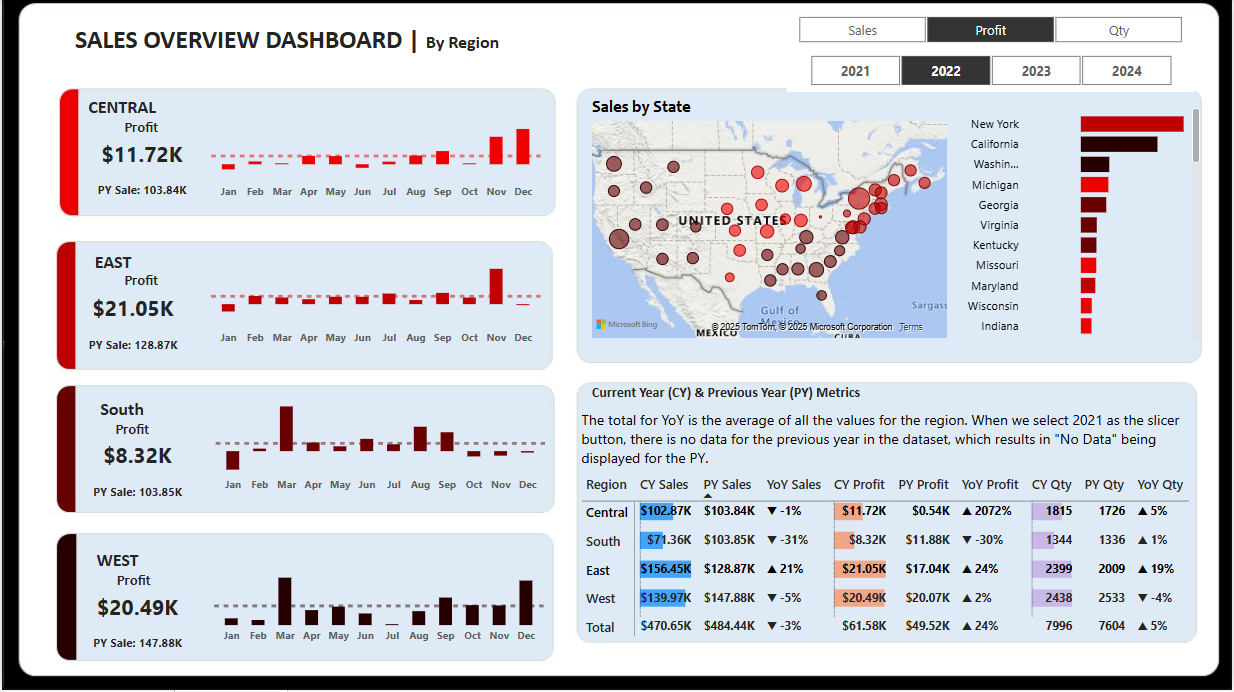

This screenshot's page, from the dashboard's own definition file:
{"tool":"powerbi","page":{"name":"Page 1","canvas":[1280,720],"ordinal":0},"visuals":[{"type":"slicer","fields":{"Values":["Select Metric.Select Metric"]},"box":[804.3,12.5,448.2,40.6],"z":0},{"type":"card","fields":{"Values":["Sales Data.Total Sales"]},"box":[68.7,140.6,156.2,45.3],"z":1000},{"type":"textbox","box":[79.7,96.8,90.6,43.7],"z":2000},{"type":"slicer","fields":{"Values":["Calendar Table.Year"]},"box":[817,52.5,424.4,44.5],"z":3000},{"type":"card","fields":{"Values":["Sales Data.Dynamic Title"]},"box":[79.7,118.7,132.8,35.9],"z":4000},{"type":"card","fields":{"Values":["Sales Data.PY KPI Sales"]},"box":[79.7,185.9,132.8,32.8],"z":5000},{"type":"clusteredColumnChart","fields":{"Y":["Sales Data.Total Sales"],"Category":["Calendar Table.Month"]},"box":[212.4,106.2,354.5,112.5],"z":6000},{"type":"textbox","box":[32.8,21.9,534.1,48.4],"z":7000},{"type":"card","fields":{"Values":["Sales Data.Total Sales"]},"box":[60,301.5,156.2,45.3],"z":8000},{"type":"textbox","box":[70.9,257.8,90.6,43.7],"z":9000},{"type":"card","fields":{"Values":["Sales Data.PY KPI Sales"]},"box":[70.9,346.8,132.8,32.8],"z":10000},{"type":"clusteredColumnChart","fields":{"Y":["Sales Data.Total Sales"],"Category":["Calendar Table.Month"]},"box":[212.4,257.7,354.5,112.5],"z":11000},{"type":"card","fields":{"Values":["Sales Data.Total Sales"]},"box":[64.8,455.2,156.2,45.3],"z":12000},{"type":"textbox","box":[79.7,410.8,90.6,43.7],"z":13000},{"type":"card","fields":{"Values":["Sales Data.PY KPI Sales"]},"box":[75.7,500.5,132.8,32.8],"z":14000},{"type":"clusteredColumnChart","fields":{"Y":["Sales Data.Total Sales"],"Category":["Calendar Table.Month"]},"box":[217.2,411.4,354.5,112.5],"z":15000},{"type":"card","fields":{"Values":["Sales Data.Total Sales"]},"box":[63.7,612.5,156.2,45.3],"z":16000},{"type":"textbox","box":[74.7,568.7,90.6,43.7],"z":17000},{"type":"card","fields":{"Values":["Sales Data.PY KPI Sales"]},"box":[74.7,657.7,132.8,32.8],"z":18000},{"type":"clusteredColumnChart","fields":{"Y":["Sales Data.Total Sales"],"Category":["Calendar Table.Month"]},"box":[216.2,568.6,354.5,112.5],"z":19000},{"type":"card","fields":{"Values":["Sales Data.Dynamic Title"]},"box":[79.7,278,132.8,35.9],"z":20000},{"type":"card","fields":{"Values":["Sales Data.Dynamic Title"]},"box":[70.3,432.6,132.8,35.9],"z":21000},{"type":"card","fields":{"Values":["Sales Data.Dynamic Title"]},"box":[71.8,589.6,132.3,35.9],"z":22000},{"type":"map","title":"Sales by State","fields":{"Size":["Sales Data.Total Sales"],"Category":["Sales Data.State/Province"],"Series":["Sales Data.Region"]},"box":[609.1,101.5,379.5,257.7],"z":23000},{"type":"barChart","fields":{"Y":["Sales Data.Total Sales"],"Category":["Sales Data.State/Province"],"Series":["Sales Data.Region"]},"box":[988.6,101.5,263.9,262.4],"z":24000},{"type":"pivotTable","fields":{"Rows":["Sales Data.Region"],"Values":["Sales Data.CY Sales","Sales Data.PY Sales","Sales Data.YoY Sales","Sales Data.CY Profit","Sales Data.PY Profit","Sales Data.YoY Profit","Sales Data.CY Qty","Sales Data.PY Qty","Sales Data.YoY Qty"]},"box":[598.2,490.4,643.5,190.5],"z":25000},{"type":"textbox","box":[609.1,395.1,299.9,37.5],"z":25001},{"type":"textbox","box":[598.2,423.3,654.4,76.5],"z":25002}]}

Visuals, with their boxes in screenshot pixels (x1, y1, x2, y2), scaled from the page's 1280x720 canvas onto the 1234x692 screenshot:
slicer - Select Metric.Select Metric: <region>775, 12, 1207, 51</region>
card - Sales Data.Total Sales: <region>66, 135, 217, 179</region>
textbox: <region>77, 93, 164, 135</region>
slicer - Calendar Table.Year: <region>788, 50, 1197, 93</region>
card - Sales Data.Dynamic Title: <region>77, 114, 205, 149</region>
card - Sales Data.PY KPI Sales: <region>77, 179, 205, 210</region>
clusteredColumnChart - Sales Data.Total Sales x Calendar Table.Month: <region>205, 102, 547, 210</region>
textbox: <region>32, 21, 547, 68</region>
card - Sales Data.Total Sales: <region>58, 290, 208, 333</region>
textbox: <region>68, 248, 156, 290</region>
card - Sales Data.PY KPI Sales: <region>68, 333, 196, 365</region>
clusteredColumnChart - Sales Data.Total Sales x Calendar Table.Month: <region>205, 248, 547, 356</region>
card - Sales Data.Total Sales: <region>62, 437, 213, 481</region>
textbox: <region>77, 395, 164, 437</region>
card - Sales Data.PY KPI Sales: <region>73, 481, 201, 513</region>
clusteredColumnChart - Sales Data.Total Sales x Calendar Table.Month: <region>209, 395, 551, 504</region>
card - Sales Data.Total Sales: <region>61, 589, 212, 632</region>
textbox: <region>72, 547, 159, 589</region>
card - Sales Data.PY KPI Sales: <region>72, 632, 200, 664</region>
clusteredColumnChart - Sales Data.Total Sales x Calendar Table.Month: <region>208, 546, 550, 655</region>
card - Sales Data.Dynamic Title: <region>77, 267, 205, 302</region>
card - Sales Data.Dynamic Title: <region>68, 416, 196, 450</region>
card - Sales Data.Dynamic Title: <region>69, 567, 197, 601</region>
"Sales by State" map: <region>587, 98, 953, 345</region>
barChart - Sales Data.Total Sales x Sales Data.State/Province: <region>953, 98, 1207, 350</region>
pivotTable - Sales Data.Region x Sales Data.CY Sales: <region>577, 471, 1197, 654</region>
textbox: <region>587, 380, 876, 416</region>
textbox: <region>577, 407, 1208, 480</region>
